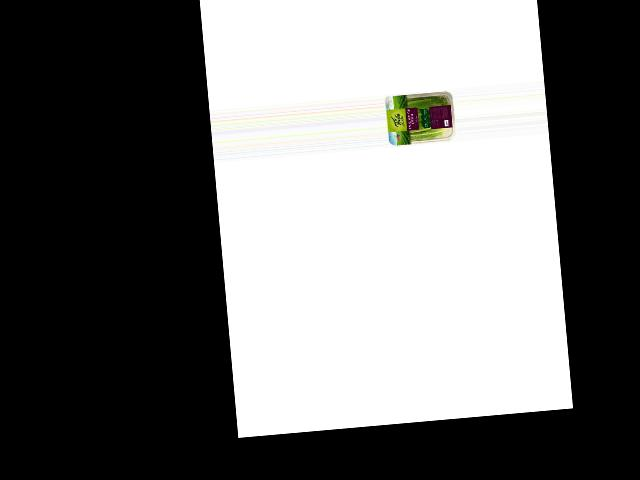lettuce: (389, 90, 457, 146)
